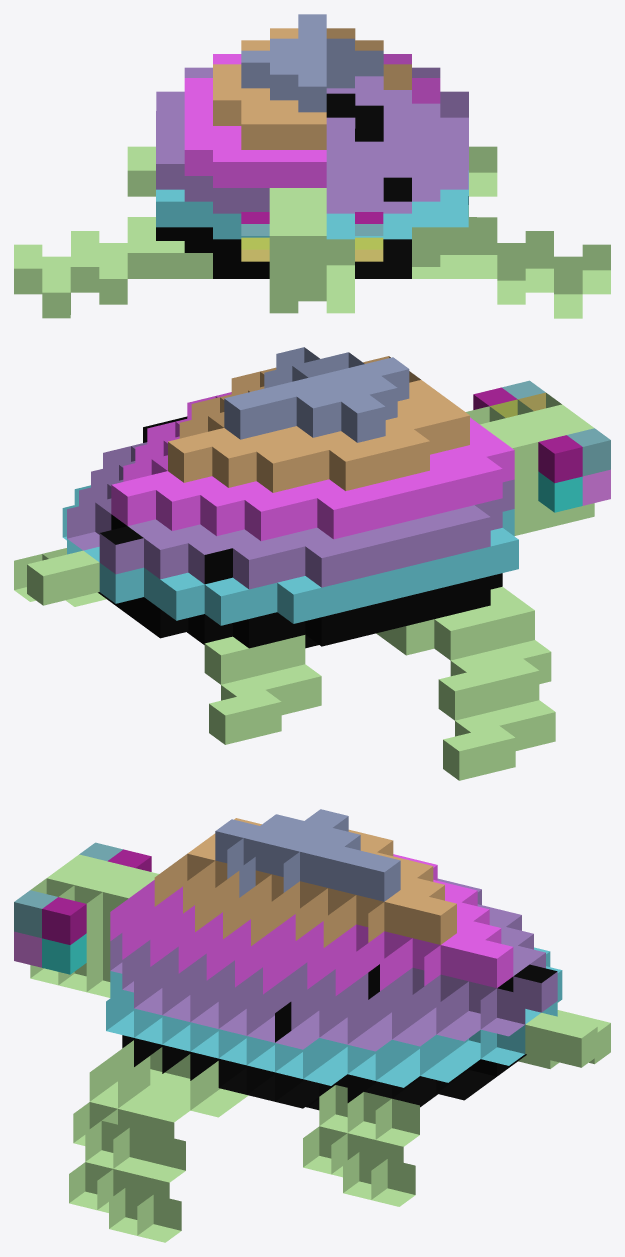
File: seaturtle.glb
The picture shows the model from 3 angles, top to bottom: view 1: azimuth 30°, elevation 25°; view 2: azimuth 150°, elevation 25°; view 3: azimuth 270°, elevation 25°; orthographic projection. The views are drawn at different scales.
Visible parts, largest first — view 1: Fish; view 2: Fish; view 3: Fish.
Boxes of the visible parts, x1,y1,x2,y2 form: Fish: (14, 14, 610, 318); Fish: (14, 347, 610, 780); Fish: (14, 809, 610, 1242).
Bounding box in the file's own units: 38.64 × 18 × 36.71.
